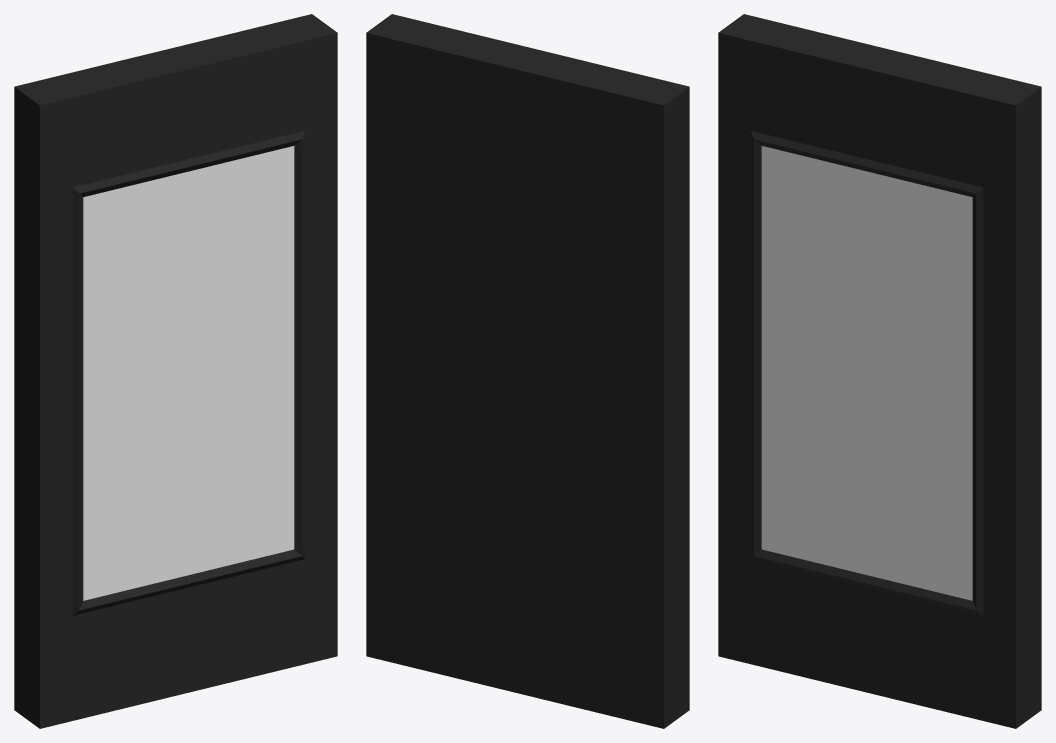
The model's file is DarkGreyGalleryInfo.glb.
3 renders of one model, left to right at view 1: azimuth 30°, elevation 25°; view 2: azimuth 150°, elevation 25°; view 3: azimuth 330°, elevation 25°, orthographic.
Parts seen in each view (by area): view 1: galleryInfo_darkGrey; view 2: galleryInfo_darkGrey; view 3: galleryInfo_darkGrey.
Part boxes in pixels (left/top/right/bottom): galleryInfo_darkGrey: left=14, top=14, right=337, bottom=728; galleryInfo_darkGrey: left=366, top=14, right=689, bottom=728; galleryInfo_darkGrey: left=718, top=14, right=1041, bottom=728.
Size of what is drawn, in the model's own units: 2 by 4 by 0.3245.
1 material, 1 textured.
